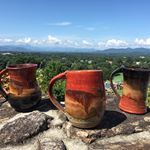cups: (45, 68, 108, 132), (109, 61, 150, 118), (1, 61, 42, 115)
